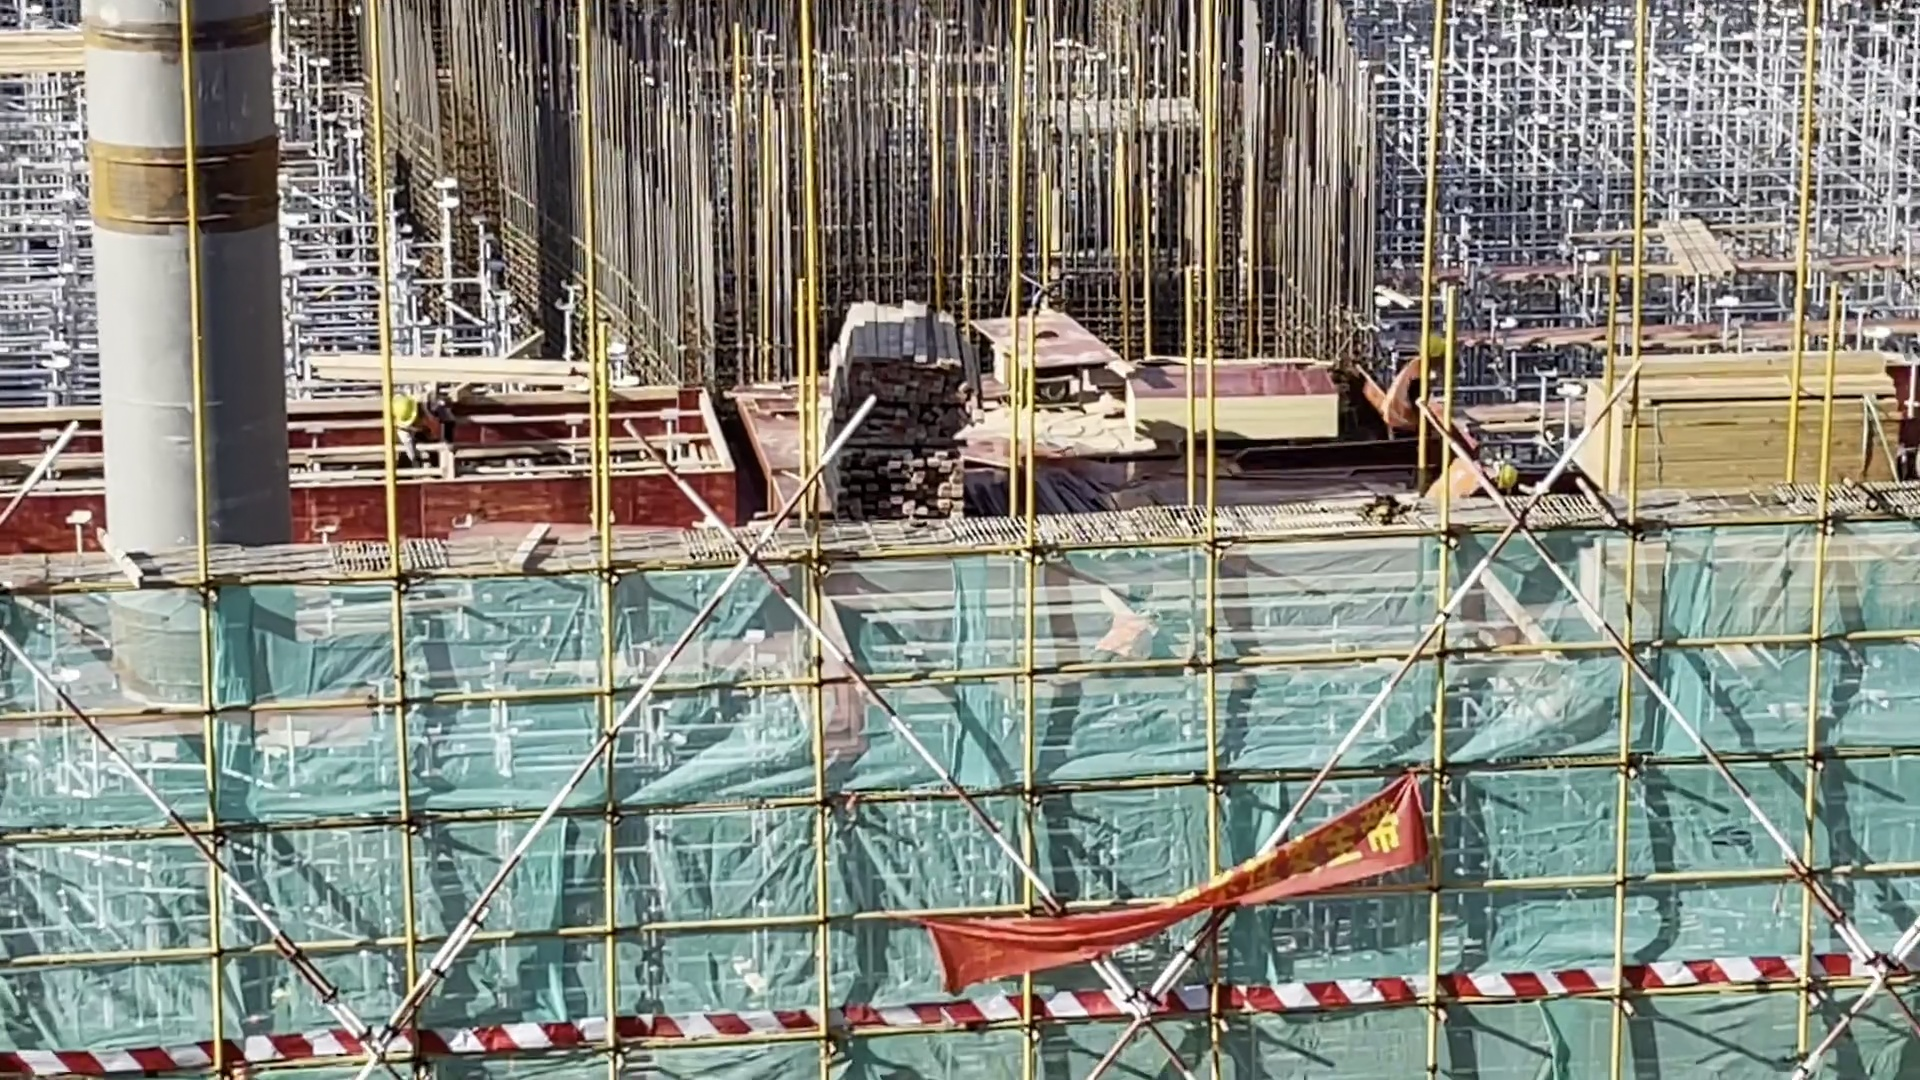helmet: (385, 386, 425, 437), (1419, 331, 1445, 367)
person: (1369, 330, 1460, 442), (386, 387, 459, 471)
slogan: (895, 746, 1455, 990)
wood: (1573, 330, 1920, 500), (815, 285, 1007, 524)
